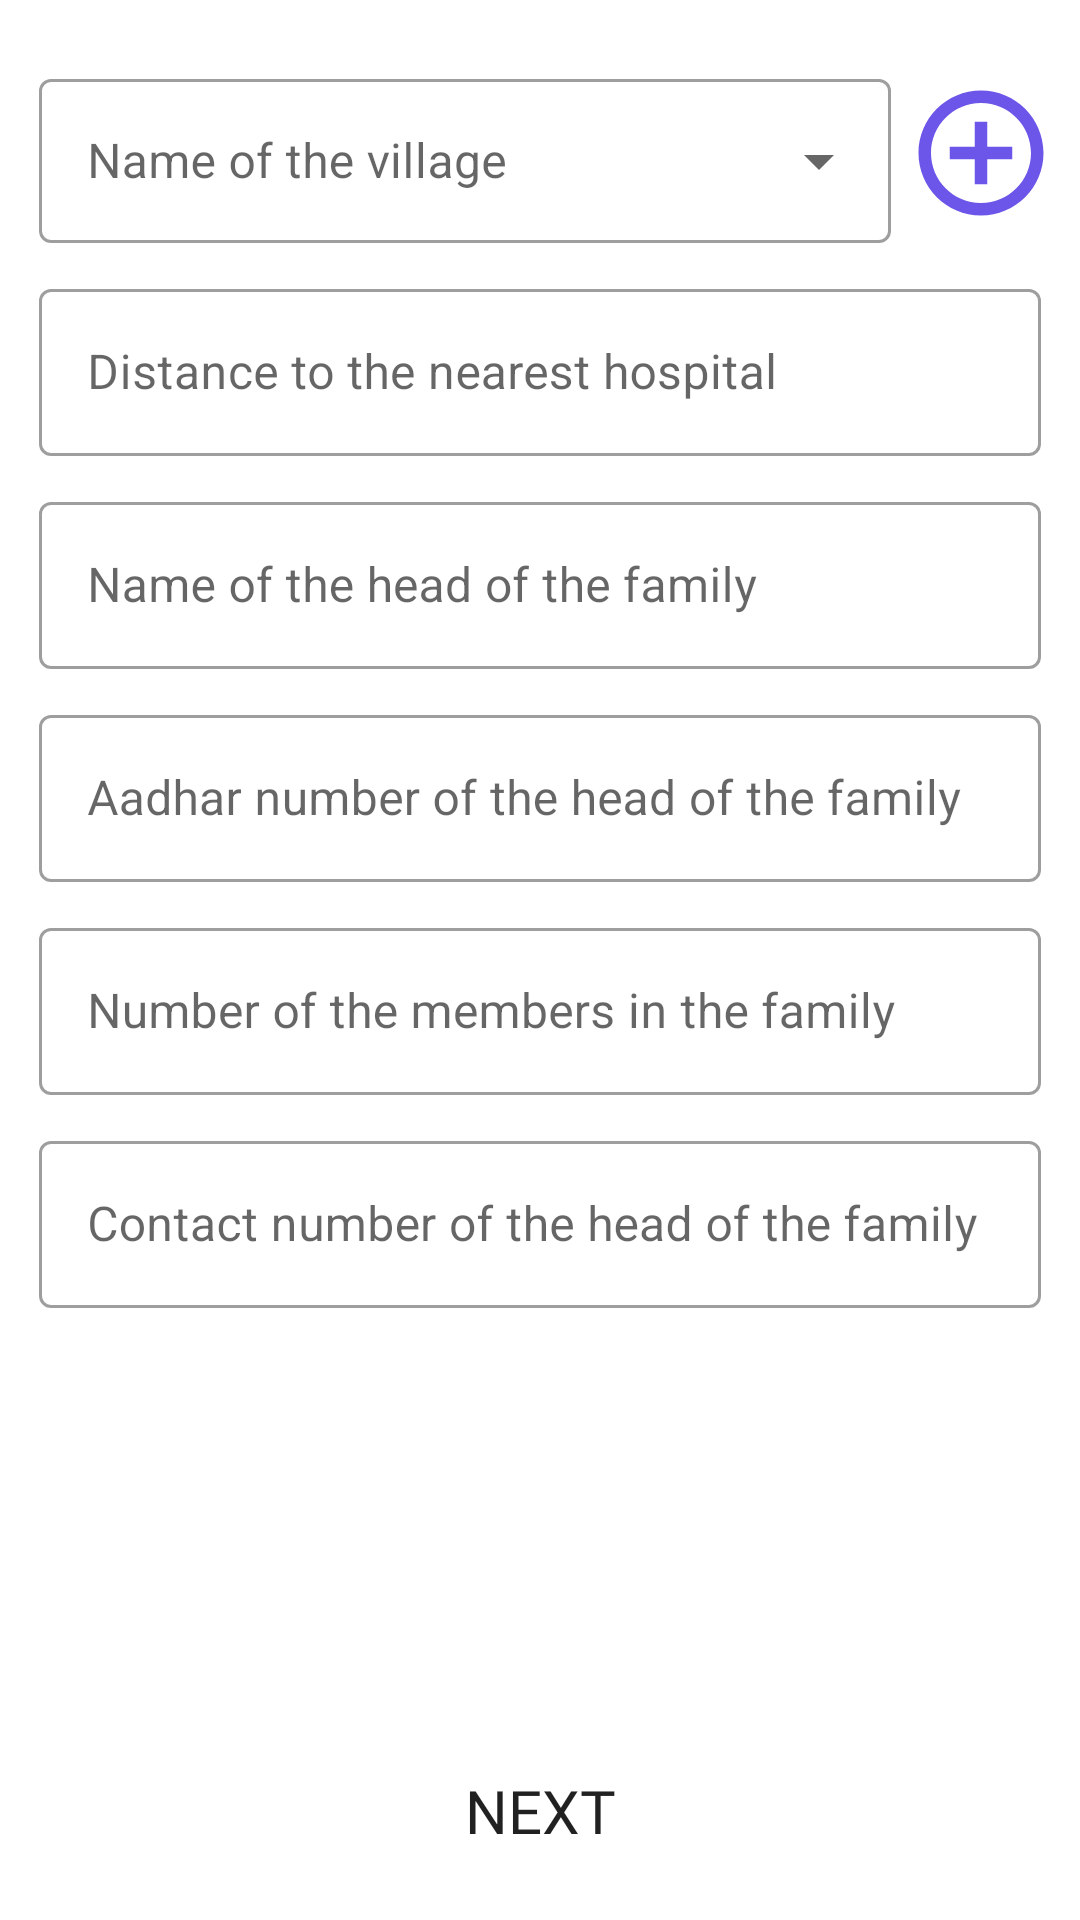

Locate icon controls on the screen. Image size 1080w x 1920h, boxes as (x1, y1, x2, y2).
add circle: (918, 90, 1044, 216)
